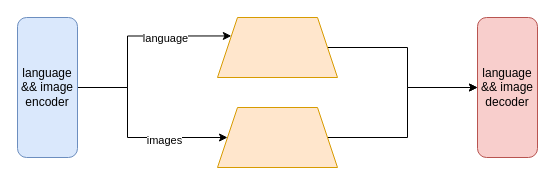
Image size: 555x185. Some labels were removed from this diagram. Each missing label, with the box of its shape:
casual attention: (216, 16, 338, 78)
full attention: (216, 106, 338, 168)
